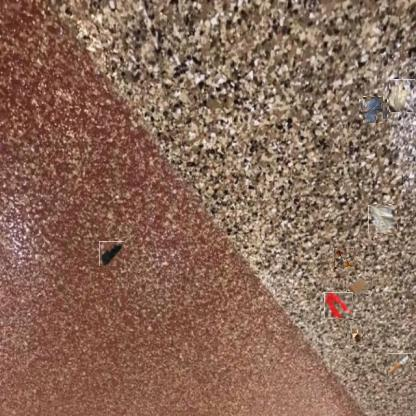dirty: (368, 204, 397, 234), (390, 79, 416, 112), (99, 241, 124, 266), (388, 353, 412, 376), (346, 276, 372, 296), (344, 322, 366, 342), (334, 248, 353, 266)
liquid: (324, 292, 353, 319), (362, 97, 386, 121)
